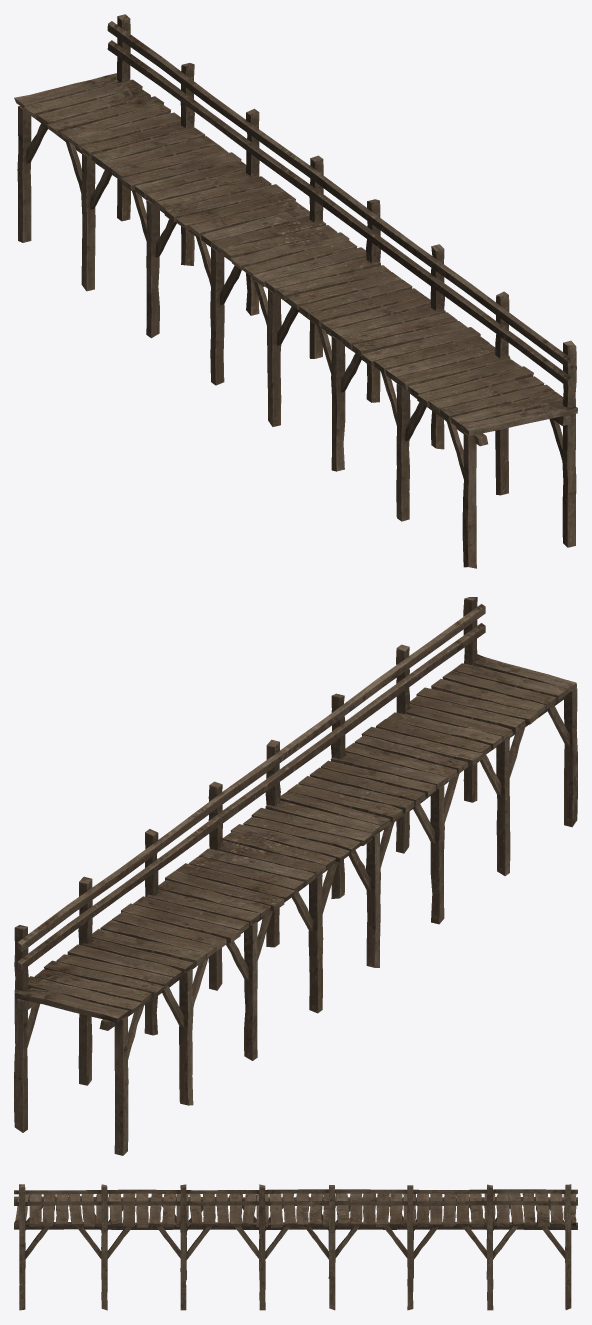
Rendered from realbridge.glb.
3 renders of one model, top to bottom at view 1: azimuth 30°, elevation 25°; view 2: azimuth 150°, elevation 25°; view 3: azimuth 270°, elevation 25°, orthographic. The views are drawn at different scales.
Visible parts, largest first — view 1: defaultMaterial; view 2: defaultMaterial; view 3: defaultMaterial.
Boxes of the visible parts, x1,y1,x2,y2 form: defaultMaterial: [14, 14, 577, 568]; defaultMaterial: [14, 597, 577, 1155]; defaultMaterial: [14, 1184, 577, 1310].
Bounding box in the file's own units: 1.8 × 3.14 × 13.
1 material, 1 textured.
